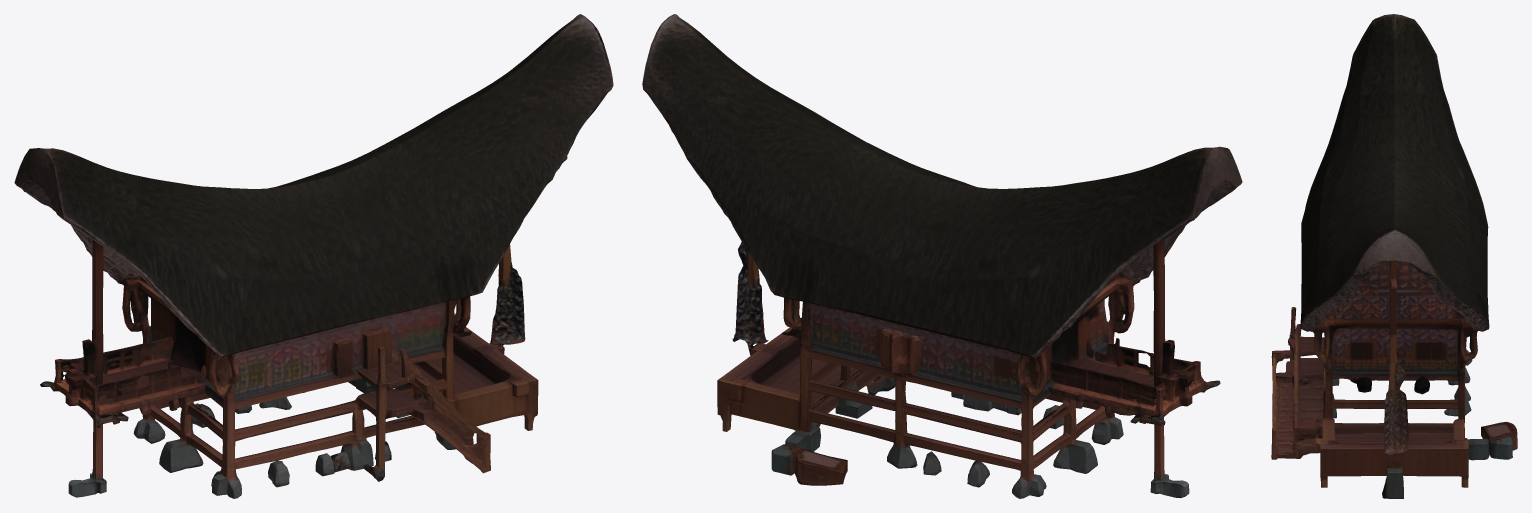
Rendered from sulawesi-selatan.glb.
3 views of the same model, side by side, from view 1: azimuth 30°, elevation 25°; view 2: azimuth 150°, elevation 25°; view 3: azimuth 270°, elevation 25° (orthographic). The views are drawn at different scales.
Parts seen in each view (by area): view 1: world; view 2: world; view 3: world.
Part boxes in pixels (x1=…): world: x1=14, y1=14, x2=613, y2=498; world: x1=642, y1=14, x2=1242, y2=498; world: x1=1271, y1=14, x2=1517, y2=498.
Size of the model in its own units: 0.7005 by 0.4365 by 0.3255.
Materials: 1 (1 with a texture image).
